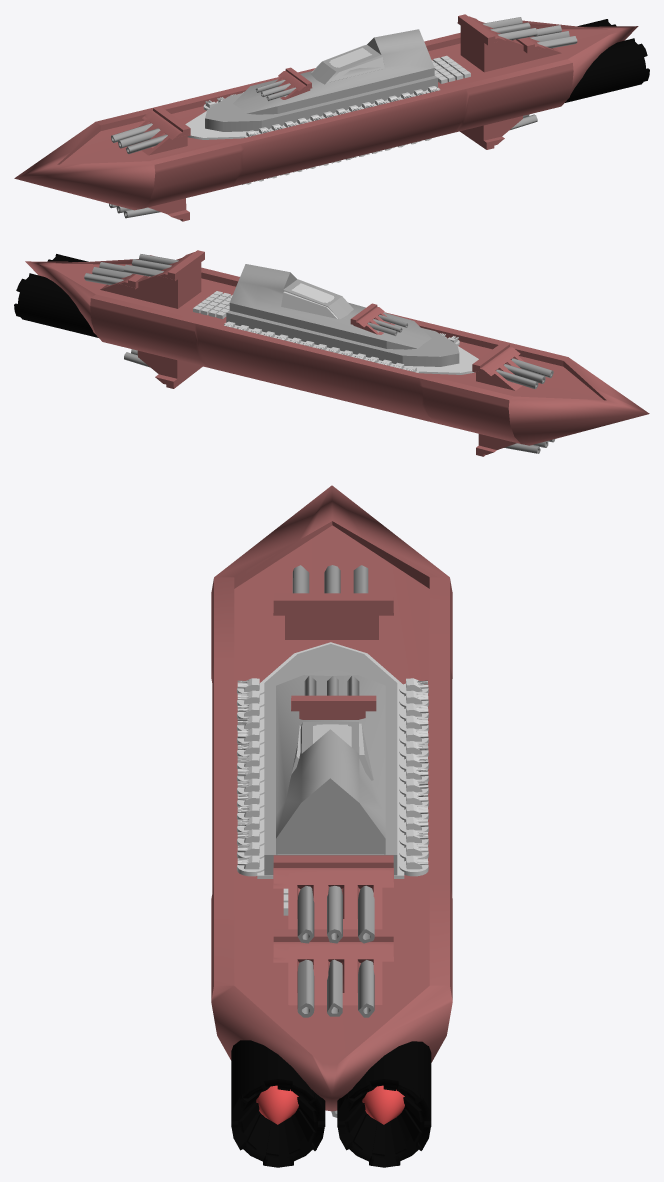
The model's file is PlayerSenkan.fbx.
3 renders of one model, top to bottom at view 1: azimuth 30°, elevation 25°; view 2: azimuth 150°, elevation 25°; view 3: azimuth 270°, elevation 25°, orthographic. The views are drawn at different scales.
Parts seen in each view (by area): view 1: polySurface312; view 2: polySurface312; view 3: polySurface312.
Boxes of the visible parts, x1,y1,x2,y2 form: polySurface312: (14, 14, 649, 221); polySurface312: (14, 250, 649, 456); polySurface312: (211, 485, 452, 1167).
Size of the model in its own units: 98.82 by 19.46 by 16.55.
